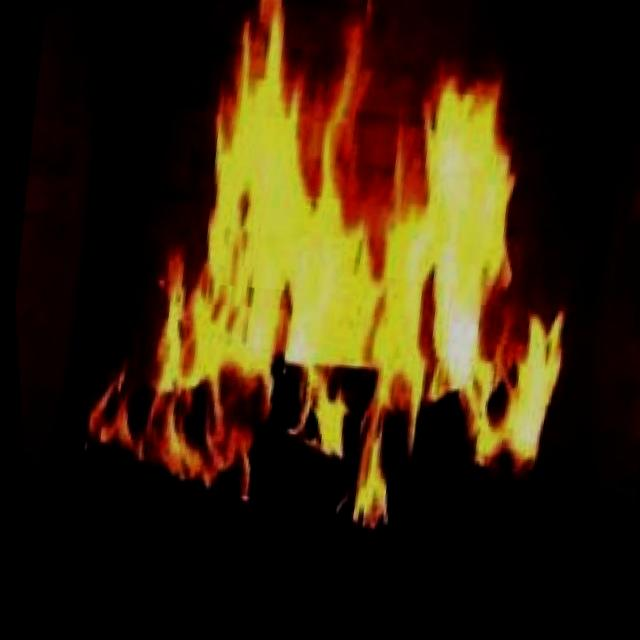Fire: (39, 0, 633, 600)
